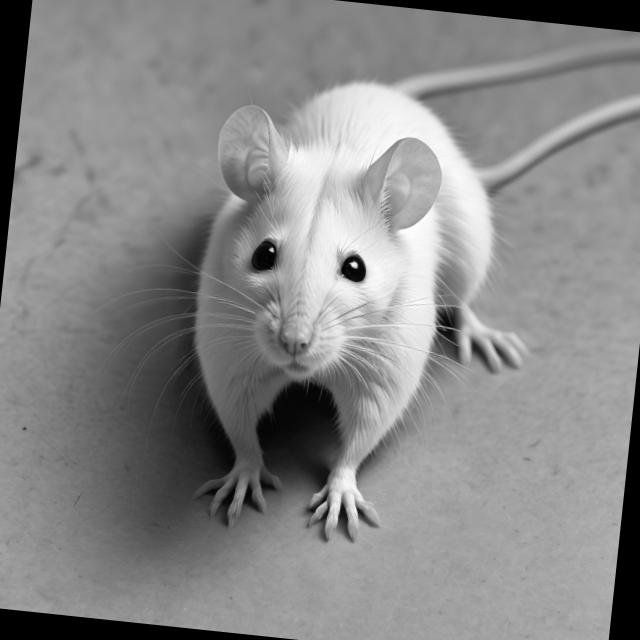rodents: (156, 46, 525, 516)
